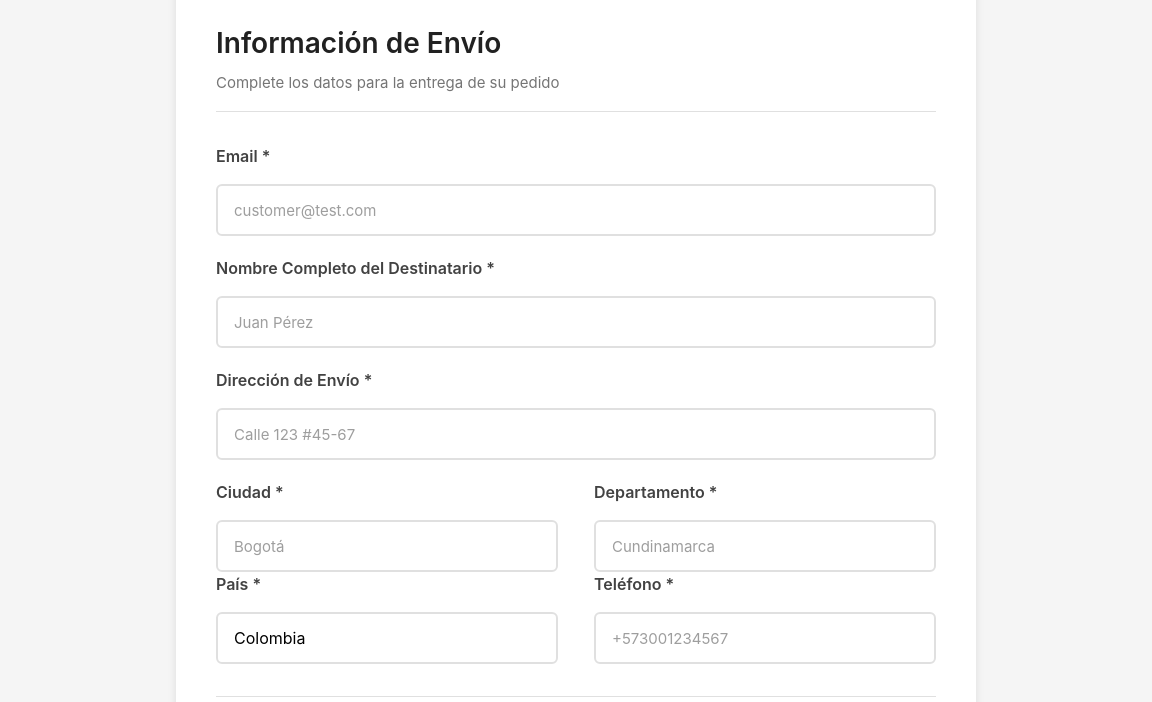
Test: DeliveryForm Component › Validaciones específicas › debe validar formato de teléfono colombiano
Type "3001234567" into the field labelled "Teléfono *" at (765, 638), box [594,612,936,664]
(page scrolled)
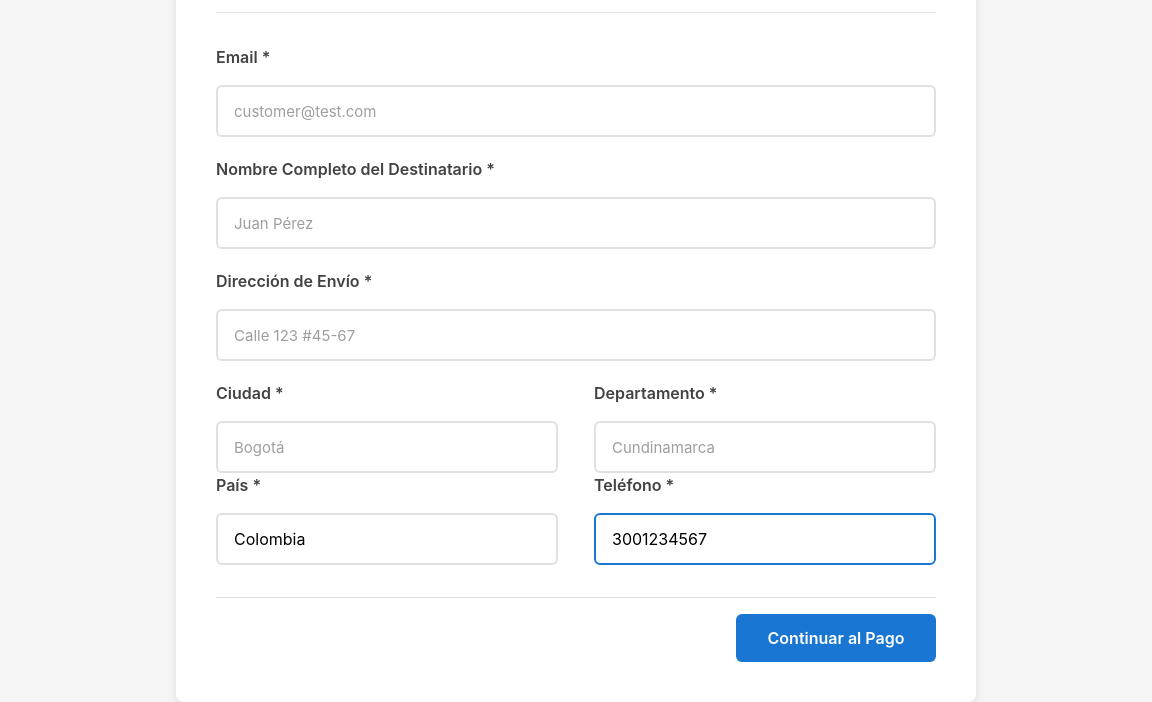
Click the button "Continuar al Pago" at (836, 638), box [736,614,936,662]
(page scrolled)
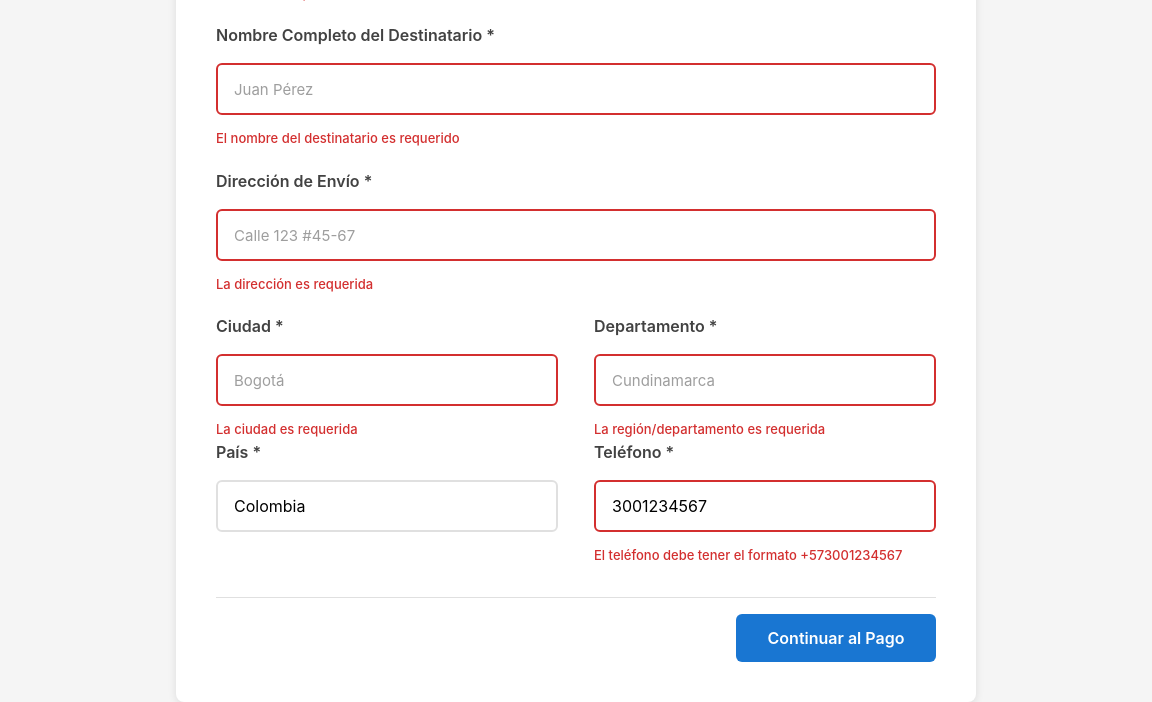
Now the text "El teléfono debe tener el formato +573001234567" is shown, box [594,546,936,565]
